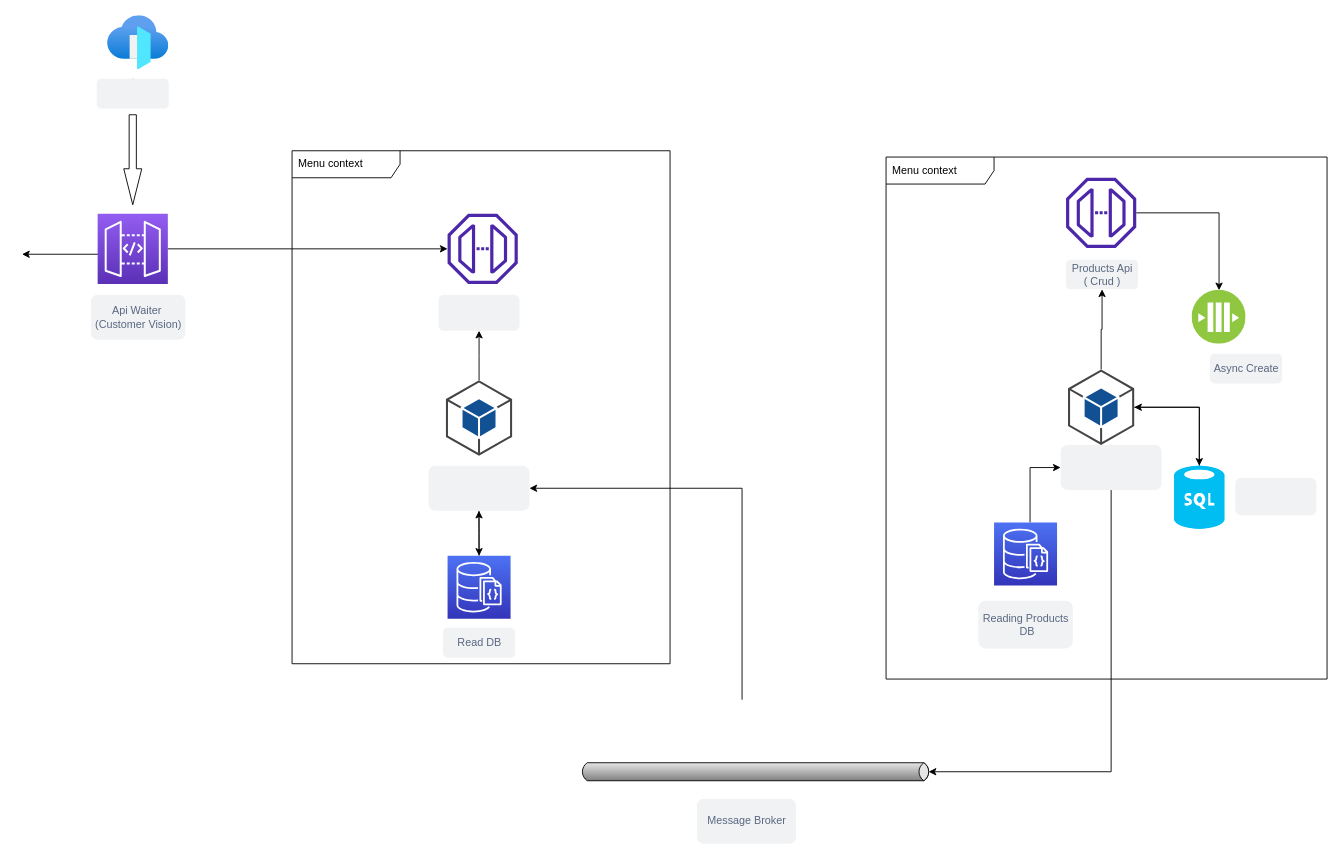
The diagram is 1343 pixels wide and 860 high, and some of its shapes have lost their labels. The centre of each missing label's shape, as x and y in pixels:
Customer: (132,93)
Menu Api (Read Only): (478,312)
Menu MicroService: (478,487)
Products DB: (1275,496)
Products MicroService: (1110,467)
